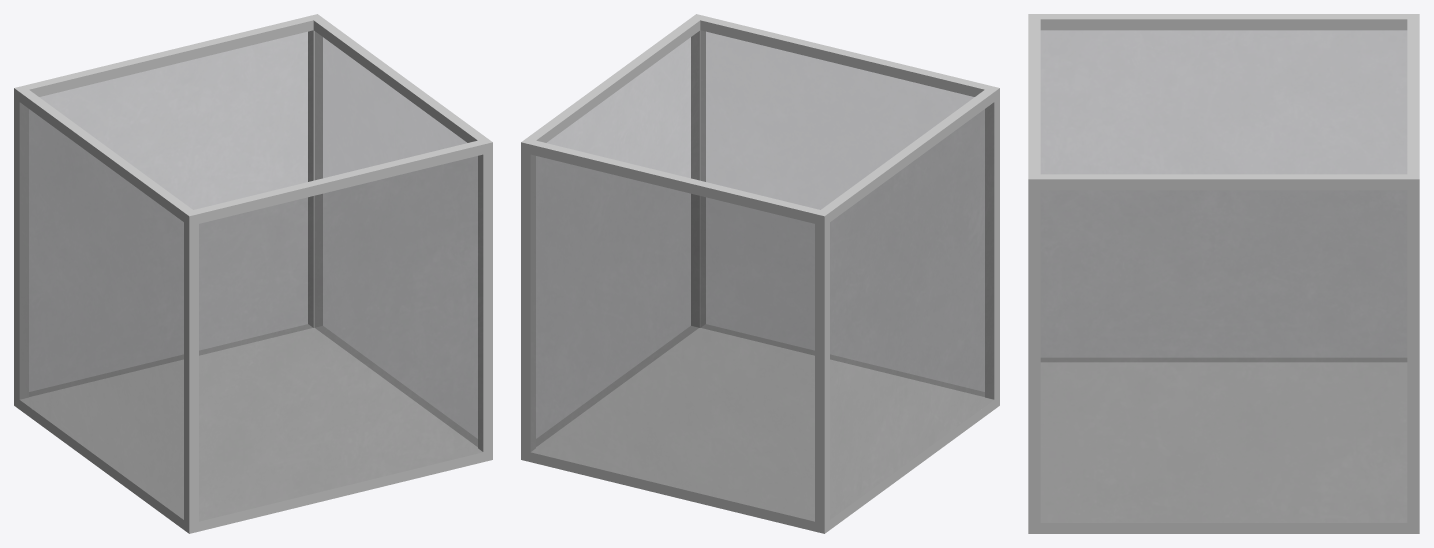
The model's file is dg-ic-WaterTank.glb.
3 views of the same model, side by side, from view 1: azimuth 30°, elevation 25°; view 2: azimuth 150°, elevation 25°; view 3: azimuth 270°, elevation 25° (orthographic). The views are drawn at different scales.
Parts seen in each view (by area): view 1: dg-ic-WaterTank; view 2: dg-ic-WaterTank; view 3: dg-ic-WaterTank.
Part boxes in pixels (left/top/right/bottom): dg-ic-WaterTank: left=14, top=14, right=492, bottom=533; dg-ic-WaterTank: left=521, top=14, right=999, bottom=533; dg-ic-WaterTank: left=1028, top=14, right=1419, bottom=533.
Bounding box in the file's own units: 0.984 × 0.984 × 0.984.
2 materials, 2 textured.
